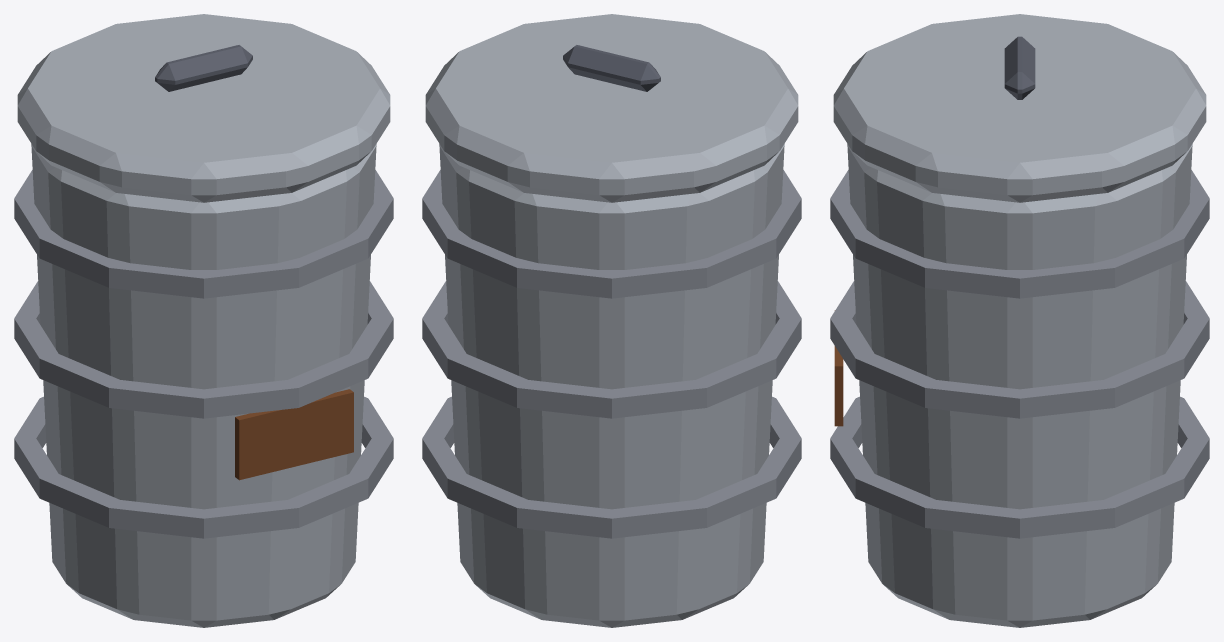
The model's file is CatCafe_Alley_TrashCan.glb.
The picture shows the model from 3 angles, left to right: view 1: azimuth 30°, elevation 25°; view 2: azimuth 150°, elevation 25°; view 3: azimuth 270°, elevation 25°; orthographic projection.
Visible parts, largest first — view 1: CatCafe_Alley_TrashCan; view 2: CatCafe_Alley_TrashCan; view 3: CatCafe_Alley_TrashCan.
Part boxes in pixels (x1,y1,x2,y2): CatCafe_Alley_TrashCan: (14,14,393,627); CatCafe_Alley_TrashCan: (422,14,801,627); CatCafe_Alley_TrashCan: (830,14,1209,627).
Size of the model in its own units: 1.72 by 2.57 by 1.72.
1 material, 1 textured.
